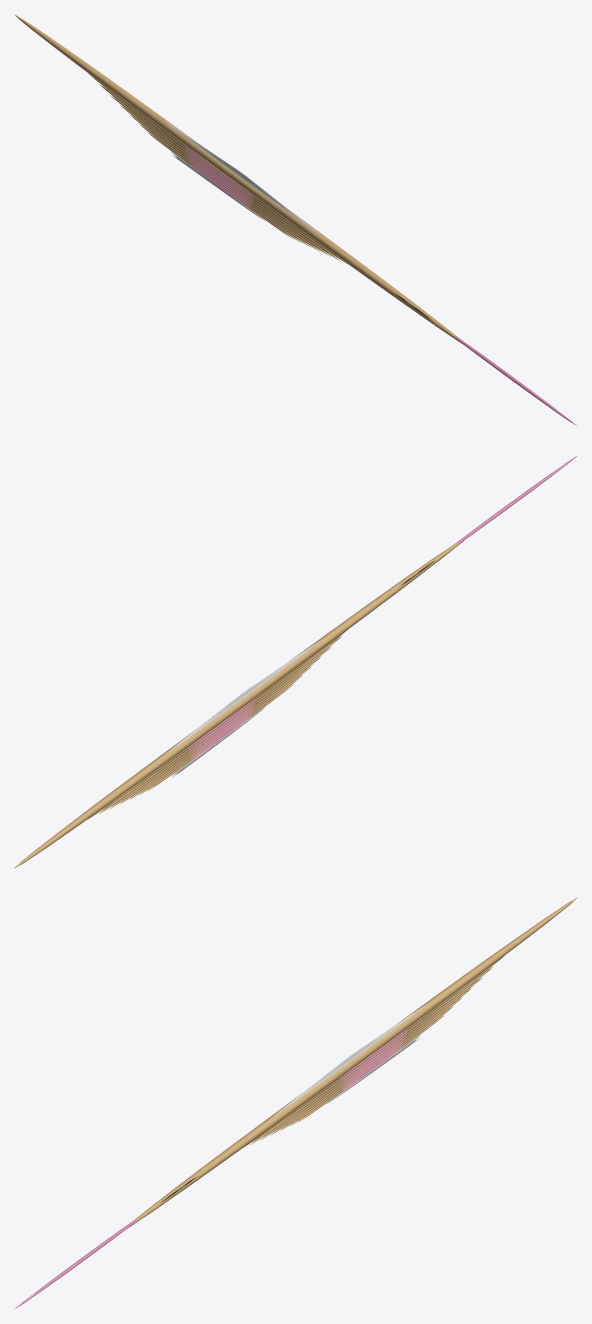
3 renders of one model, top to bottom at view 1: azimuth 30°, elevation 25°; view 2: azimuth 150°, elevation 25°; view 3: azimuth 330°, elevation 25°, orthographic.
Parts seen in each view (by area): view 1: Weedle; view 2: Weedle; view 3: Weedle.
Part boxes in pixels (x1=…): Weedle: x1=15, y1=15, x2=576, y2=425; Weedle: x1=14, y1=456, x2=576, y2=868; Weedle: x1=15, y1=898, x2=576, y2=1308.
Size of the model in its own units: 0.086 by 0.3172 by 9.69.
2 materials, 2 textured.
